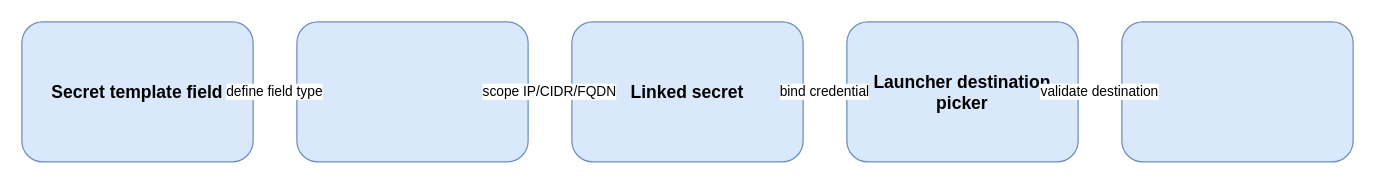
This 1375x184 diagram has some shape labels left out. Each missing label, with the box of its shape:
Approved target session: (1121, 21, 1353, 162)
Target allowlist: (296, 21, 528, 162)
